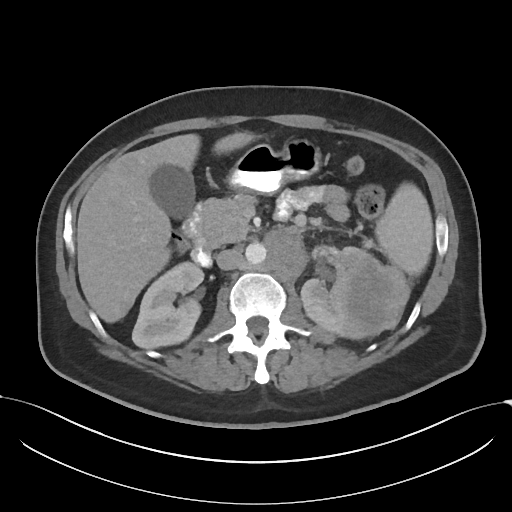Lesion: (329, 262, 411, 346)
